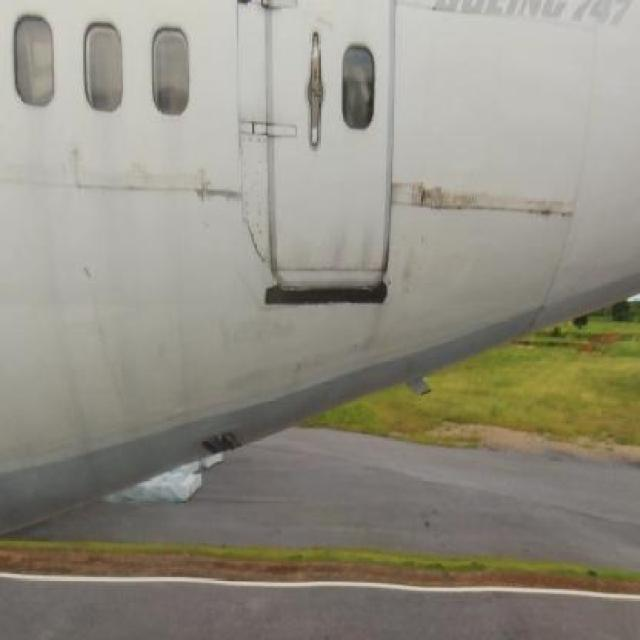Rust: (410, 177, 482, 228), (322, 218, 381, 280), (517, 182, 575, 230), (394, 251, 420, 304)
Scartch: (213, 304, 296, 374), (195, 178, 243, 218)
